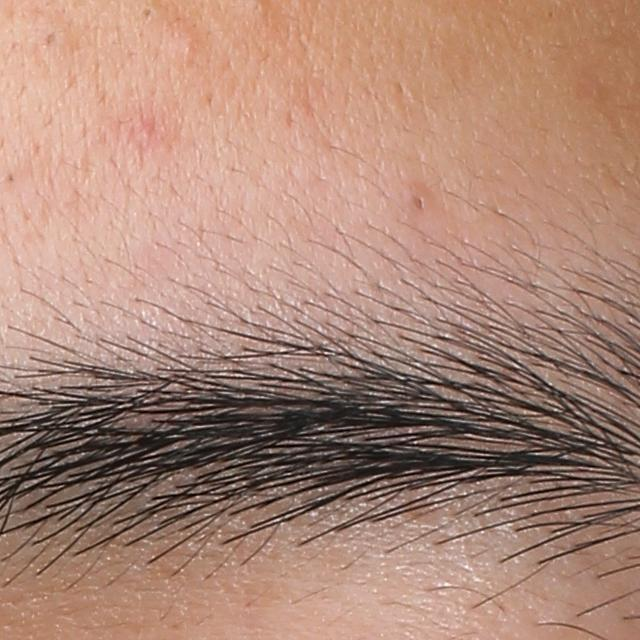comedo: (170, 28, 203, 64), (36, 28, 60, 53), (407, 187, 430, 212), (138, 3, 155, 23)
